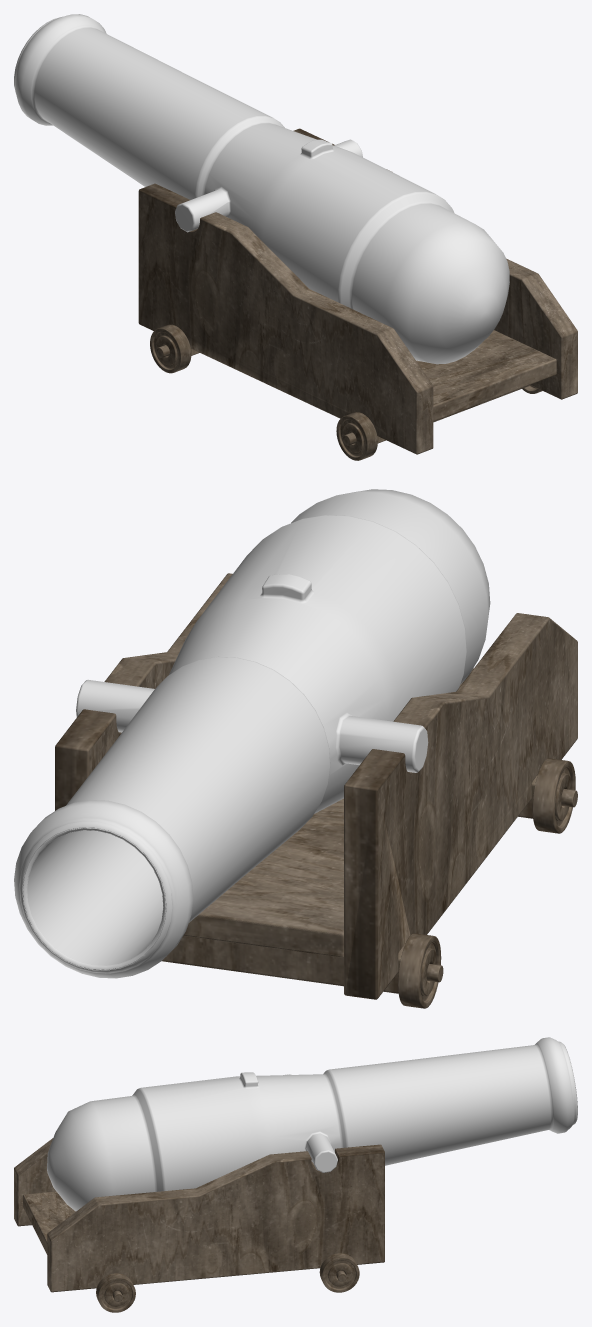
The model's file is canon01.fbx.
3 renders of one model, top to bottom at view 1: azimuth 30°, elevation 25°; view 2: azimuth 150°, elevation 25°; view 3: azimuth 270°, elevation 25°, orthographic. The views are drawn at different scales.
Parts seen in each view (by area): view 1: Cylinder; view 2: Cylinder; view 3: Cylinder.
Boxes of the visible parts, box(x1,y1,x2,y2) form: Cylinder: box(14, 14, 577, 460); Cylinder: box(14, 489, 577, 1008); Cylinder: box(14, 1037, 577, 1312).
Size of the model in its own units: 169 by 134 by 365.
Materials: 2 (1 with a texture image).
